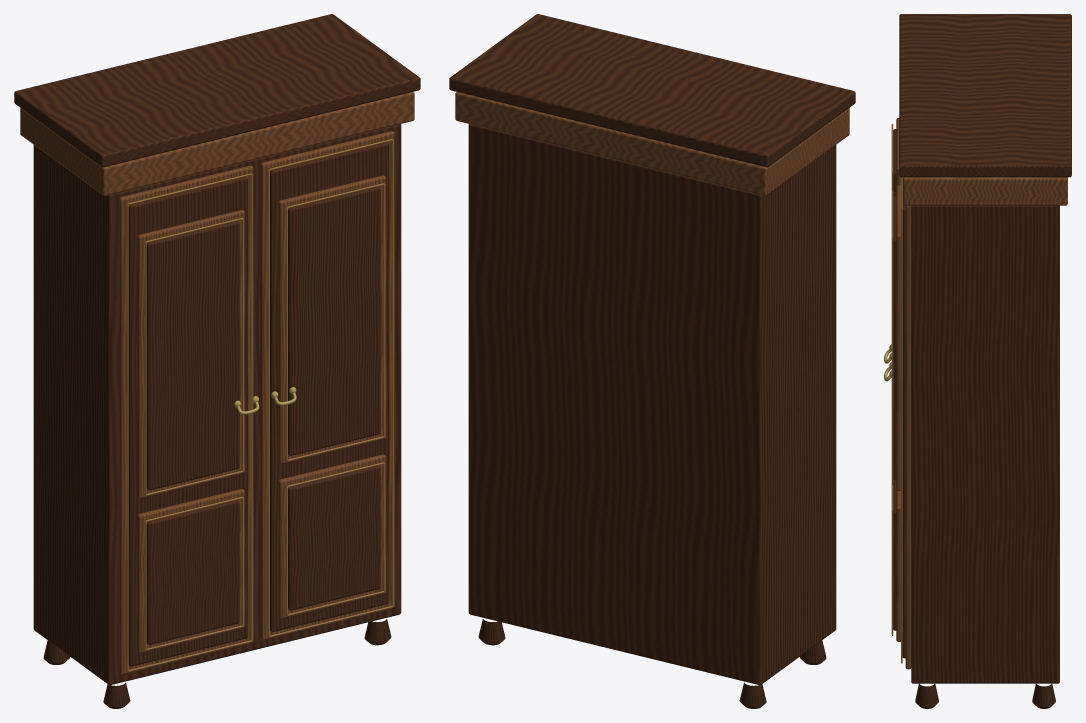
Rendered from wardrobe.glb.
3 views of the same model, side by side, from view 1: azimuth 30°, elevation 25°; view 2: azimuth 150°, elevation 25°; view 3: azimuth 270°, elevation 25° (orthographic). The views are drawn at different scales.
Parts seen in each view (by area): view 1: wardrobe; view 2: wardrobe; view 3: wardrobe.
Boxes of the visible parts, <box> form: wardrobe: <box>14,14,420,708</box>; wardrobe: <box>449,14,855,708</box>; wardrobe: <box>884,14,1071,708</box>.
Bounding box in the file's own units: 1.15 × 1.95 × 0.6.
Materials: 4 (2 with a texture image).
